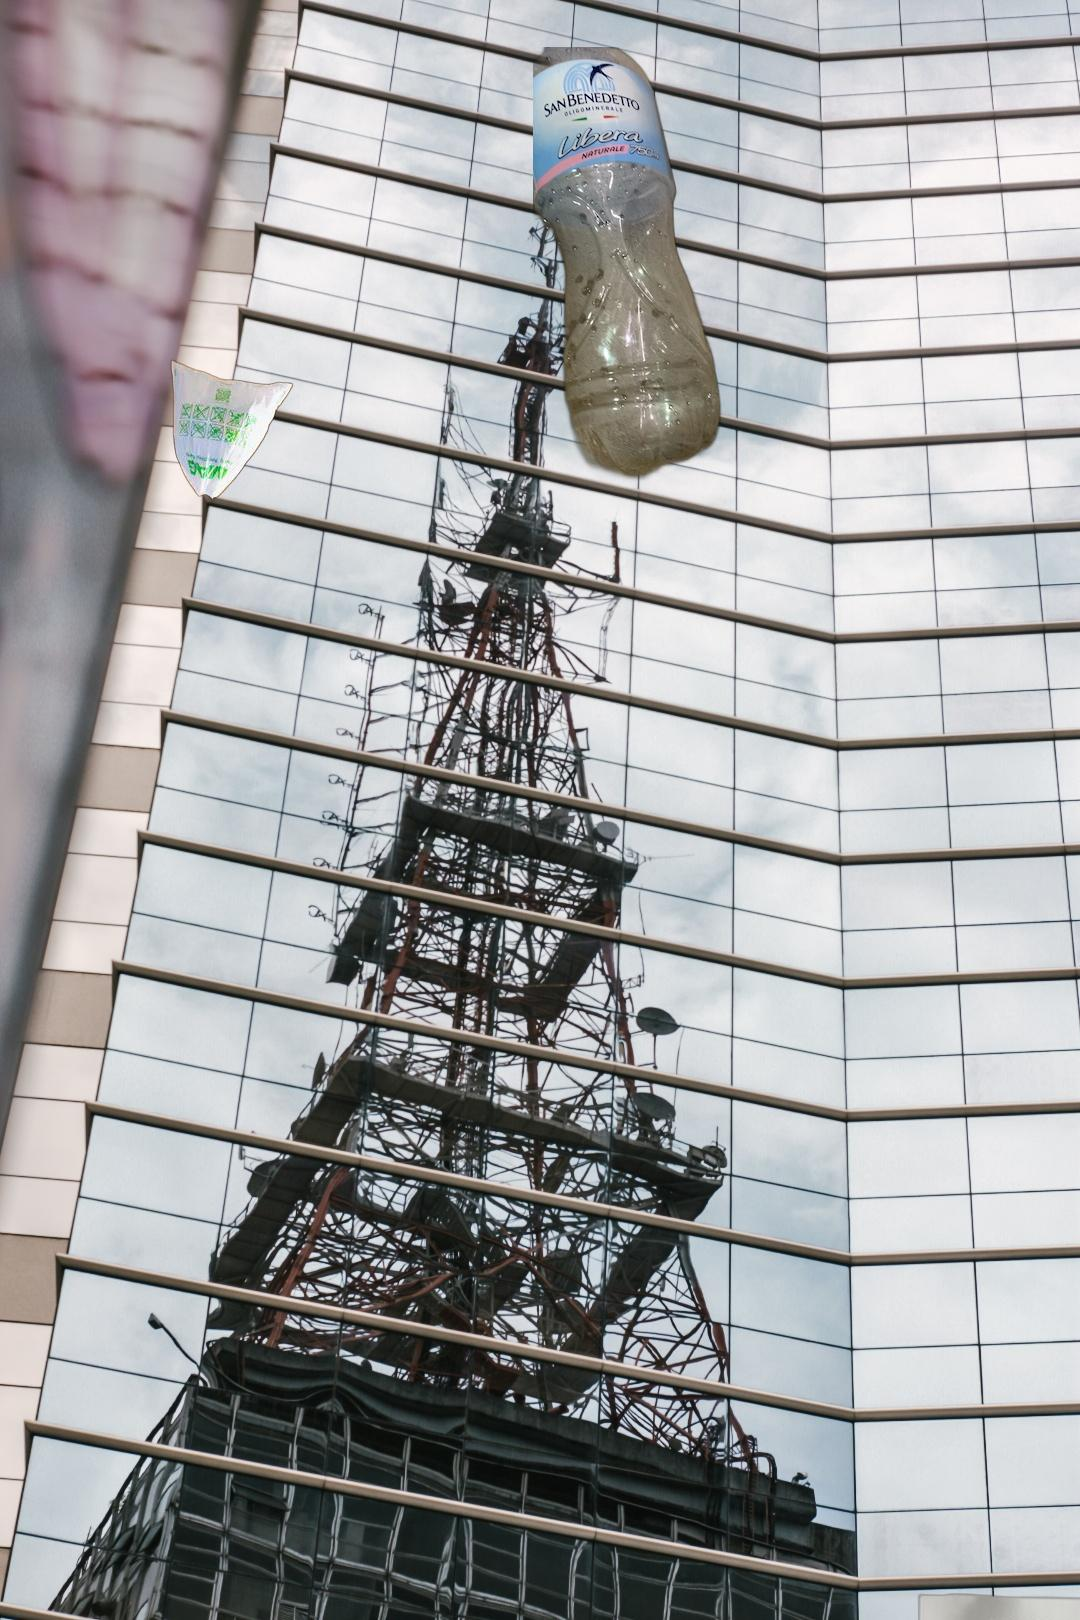paper: (914, 1590, 1080, 1620)
plastic-bag: (168, 359, 297, 526)
plastic-bottles: (533, 47, 724, 487)
